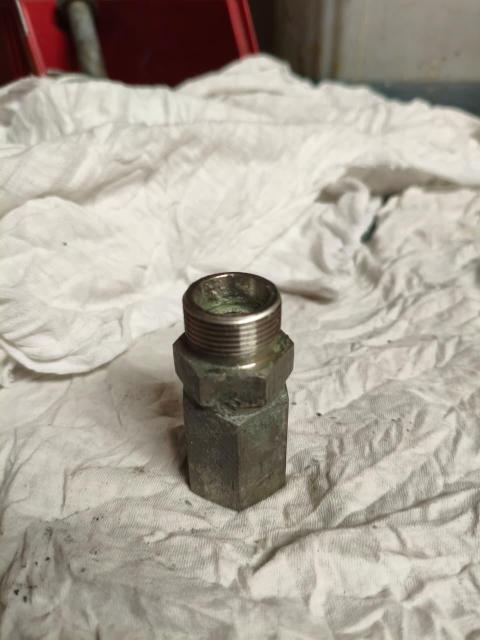Metal: (173, 270, 300, 498)
